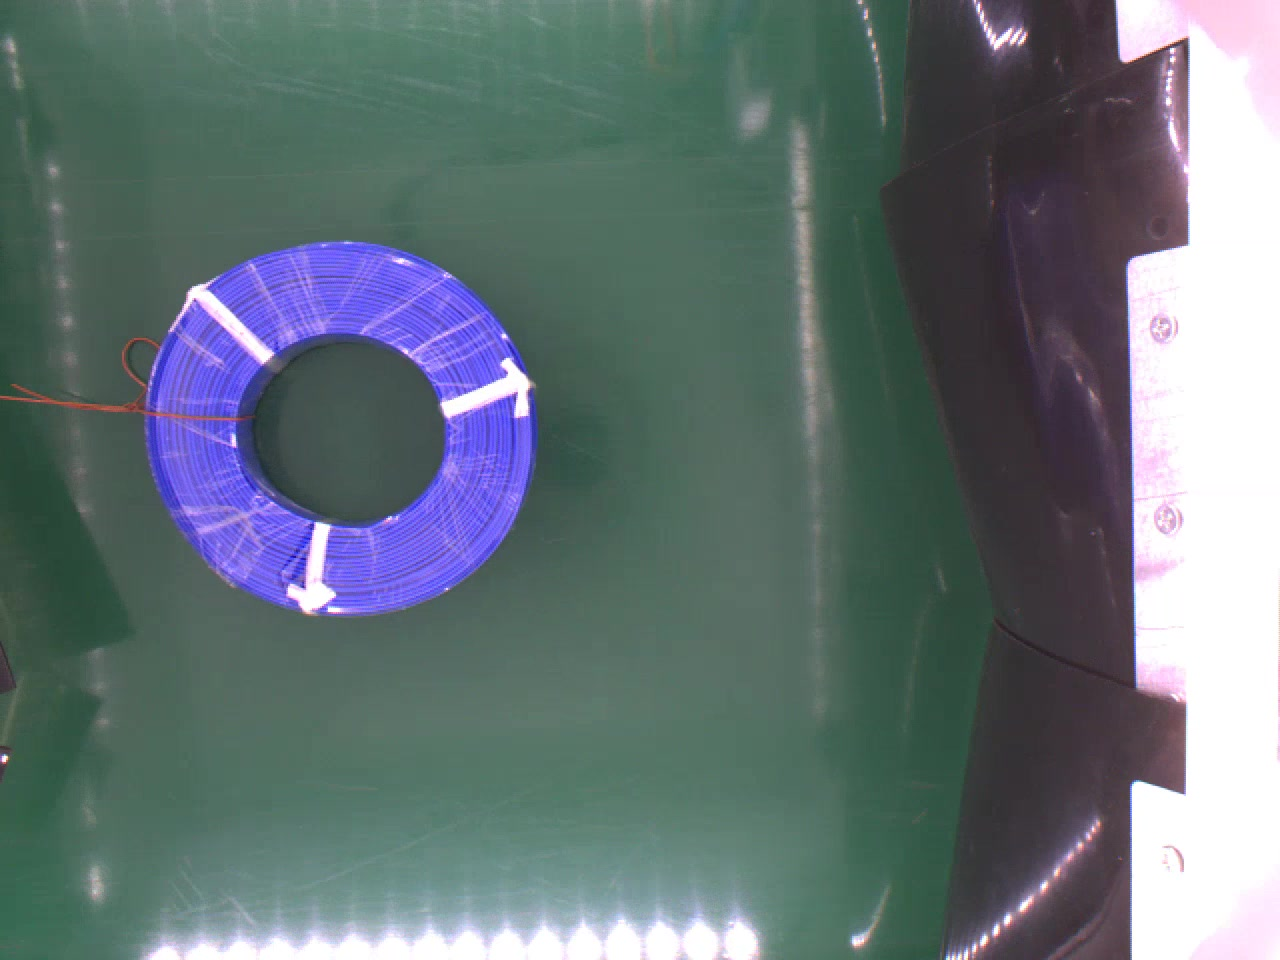blue: (147, 239, 540, 615)
